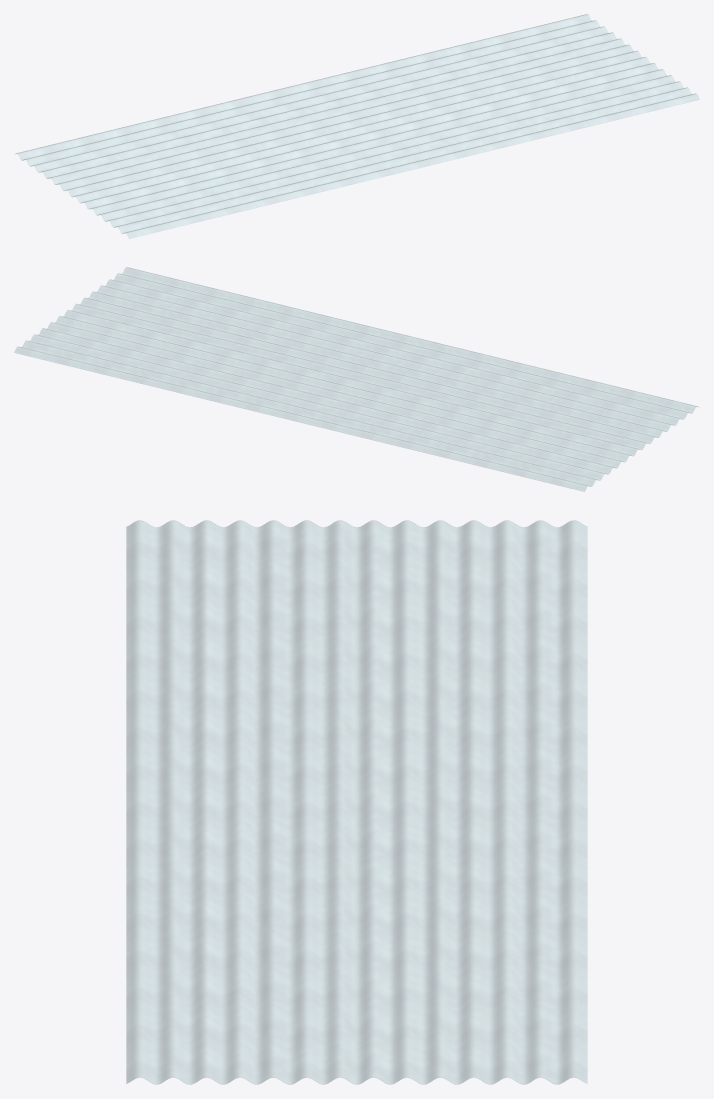
File: COB-MTL-004_lod1.glb
3 renders of one model, top to bottom at view 1: azimuth 30°, elevation 25°; view 2: azimuth 150°, elevation 25°; view 3: azimuth 270°, elevation 25°, orthographic. The views are drawn at different scales.
Visible parts, largest first — view 1: COB-MTL-004_chapa; view 2: COB-MTL-004_chapa; view 3: COB-MTL-004_chapa.
Part boxes in pixels (<box>): COB-MTL-004_chapa: <box>16,14,699,238</box>; COB-MTL-004_chapa: <box>14,267,697,491</box>; COB-MTL-004_chapa: <box>126,520,587,1084</box>.
Bounding box in the file's own units: 3 × 0.0192 × 1.05.
1 material, 1 textured.
